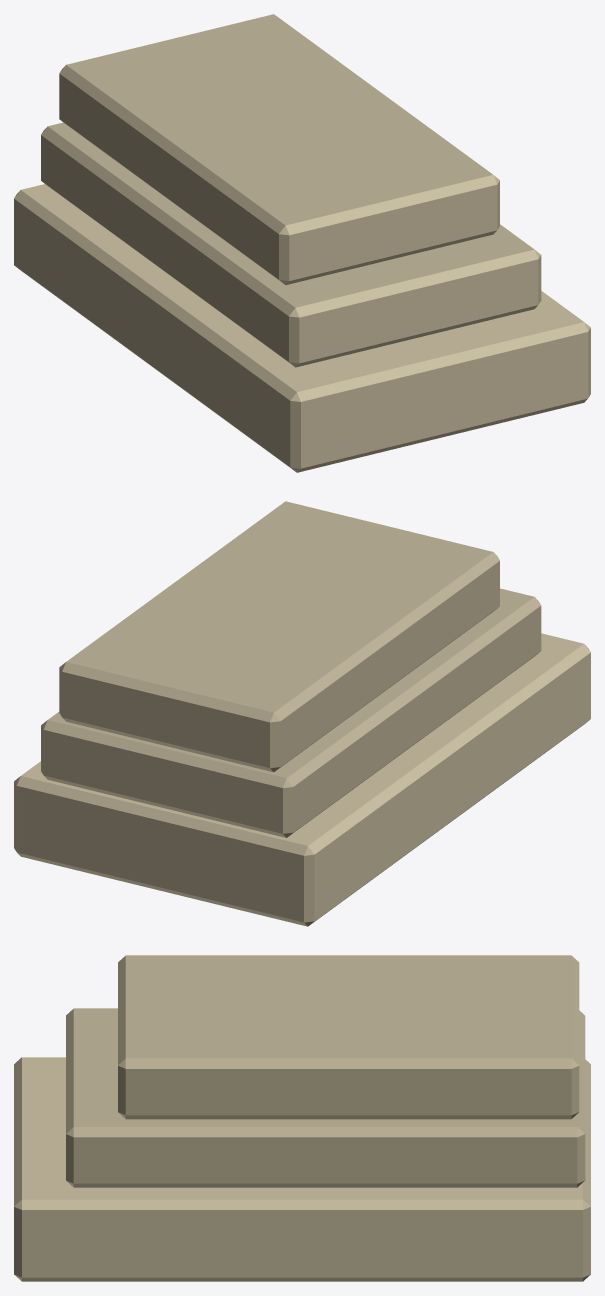
File: crawler_hull.glb
3 renders of one model, top to bottom at view 1: azimuth 30°, elevation 25°; view 2: azimuth 150°, elevation 25°; view 3: azimuth 270°, elevation 25°, orthographic.
Visible parts, largest first — view 1: crawler_hull; view 2: crawler_hull; view 3: crawler_hull.
Part boxes in pixels (x1,y1,x2,y2): crawler_hull: [14, 14, 590, 472]; crawler_hull: [14, 501, 590, 926]; crawler_hull: [14, 955, 590, 1281].
Size of the model in its own units: 4.4 by 2.8 by 7.2.
